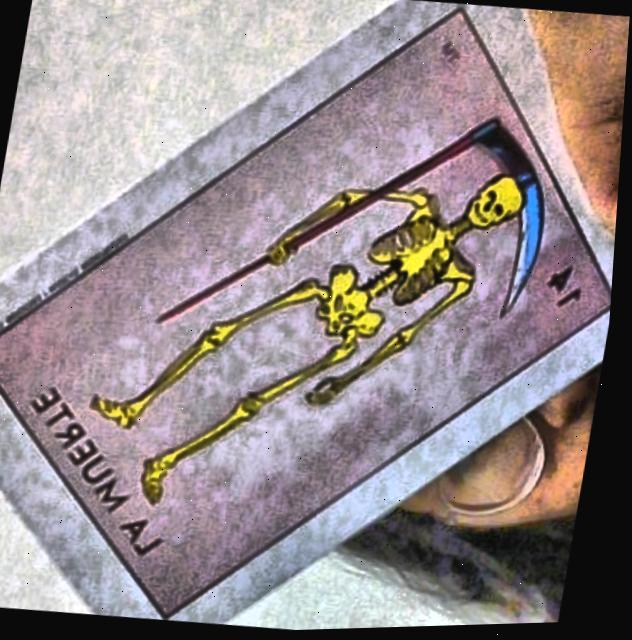La Muerte: (0, 15, 614, 621)
